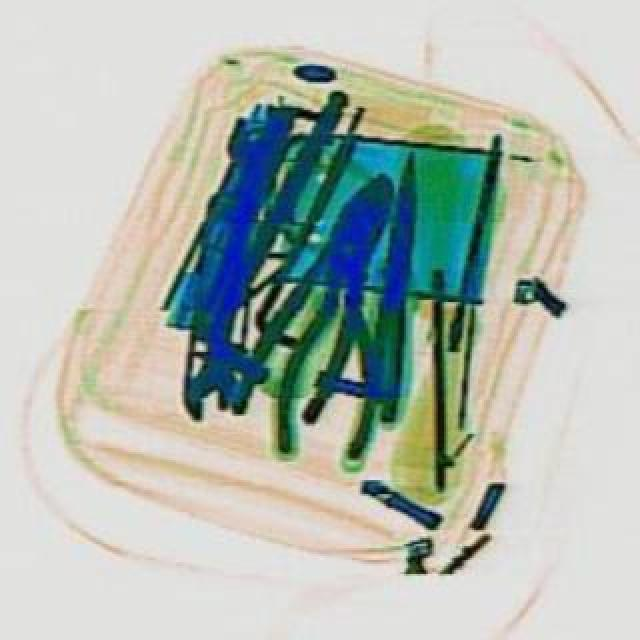scissors: (176, 194, 246, 420), (218, 112, 280, 218)
wrench: (218, 156, 426, 440), (264, 216, 404, 460)
